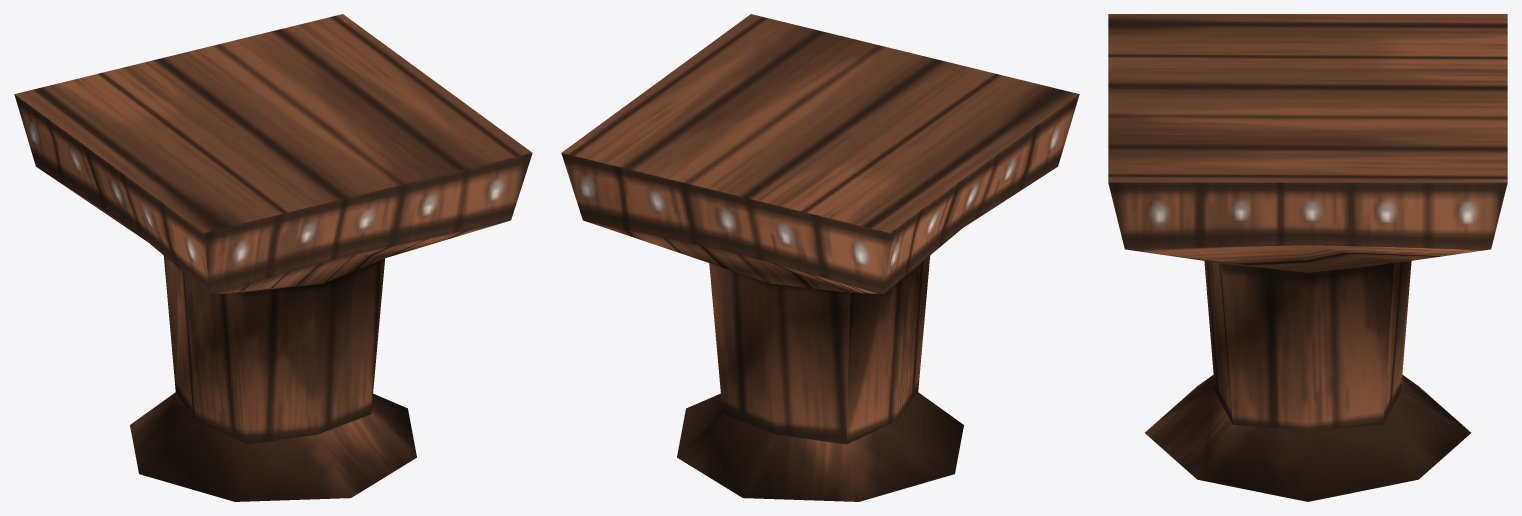
The model's file is wooden_stool.glb.
The picture shows the model from 3 angles, left to right: view 1: azimuth 30°, elevation 25°; view 2: azimuth 150°, elevation 25°; view 3: azimuth 270°, elevation 25°; orthographic projection. The views are drawn at different scales.
Parts seen in each view (by area): view 1: Cube; view 2: Cube; view 3: Cube.
Boxes of the visible parts, x1,y1,x2,y2 form: Cube: (14, 14, 532, 501); Cube: (561, 14, 1079, 501); Cube: (1108, 14, 1507, 501).
Size of the model in its own units: 2 by 1.85 by 2.
1 material, 1 textured.
